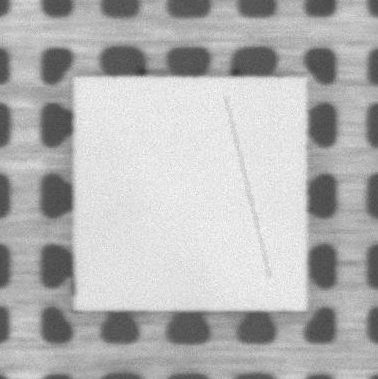DIE_CRACK: (225, 99, 269, 278)
